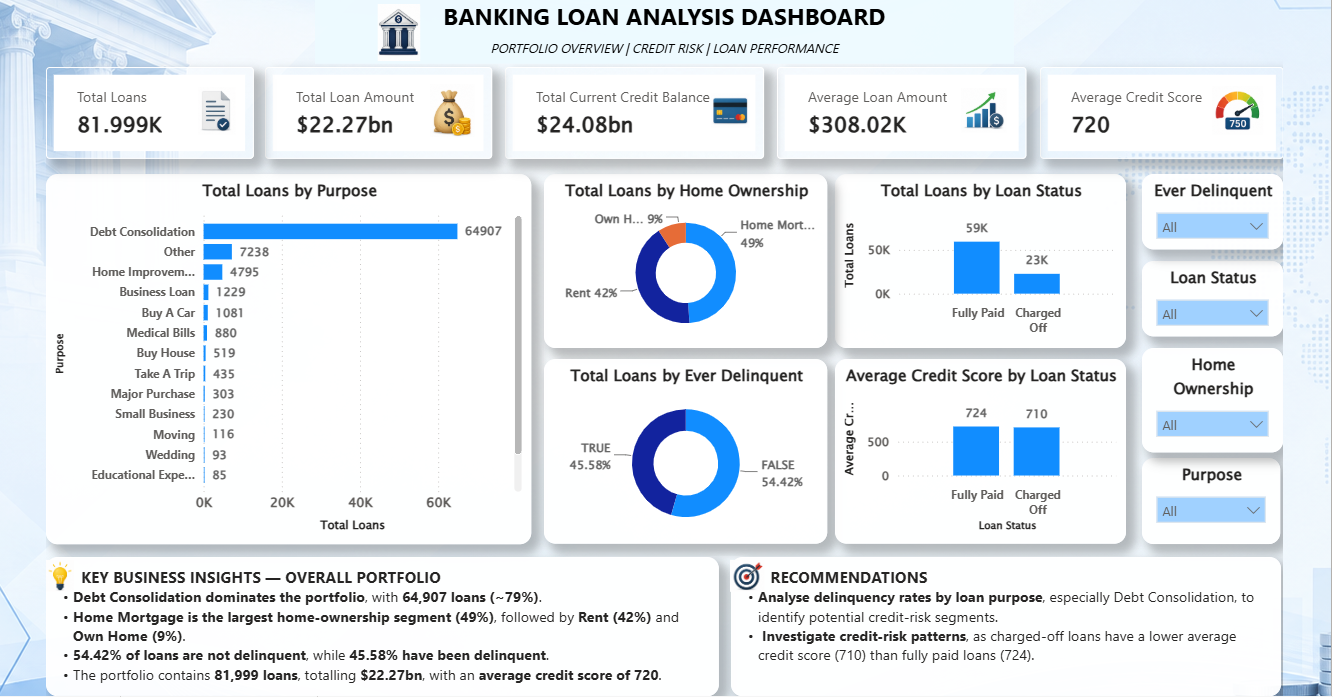

The dashboard page shown, as its layout file describes it:
{"tool":"powerbi","page":{"name":"Executive/Portfolio View","canvas":[1280,720],"ordinal":0},"visuals":[{"type":"clusteredColumnChart","fields":{"Category":["Fact_Loans.Loan Status"],"Y":["Fact_Loans.Total Loans"]},"box":[815.9,179.8,301.2,179.8],"z":0},{"type":"clusteredBarChart","fields":{"Category":["Dim_Purpose.Purpose"],"Y":["Fact_Loans.Total Loans"]},"box":[0,179.8,502.5,382.6],"z":1000},{"type":"donutChart","fields":{"Category":["Dim_Customers.Home Ownership"],"Y":["Fact_Loans.Total Loans"]},"box":[514.8,179.8,293.5,179.8],"z":2000},{"type":"cardVisual","title":"Average Credit Score","fields":{"Data":["Fact_Loans.Average Credit Score"]},"box":[1028,69.1,252,95.3],"z":3000},{"type":"donutChart","fields":{"Category":["Fact_Loans.Ever Delinquent"],"Y":["Fact_Loans.Total Loans"]},"box":[514.8,371.9,293.5,190.5],"z":4000},{"type":"cardVisual","title":"Total Current Credit Balance","fields":{"Data":["Fact_Loans.Total Current Credit Balance"]},"box":[475.2,69.1,267.8,95],"z":5000},{"type":"clusteredColumnChart","fields":{"Category":["Fact_Loans.Loan Status"],"Y":["Fact_Loans.Average Credit Score"]},"box":[815.9,371.9,301.2,190.5],"z":6000},{"type":"cardVisual","title":"Total Loan Amount","fields":{"Data":["Fact_Loans.Total Loan Amount"]},"box":[226.1,69.1,234.7,95],"z":7000},{"type":"cardVisual","title":"Average Loan Amount","fields":{"Data":["Fact_Loans.Average Loan Amount"]},"box":[756,69.1,258.2,95.3],"z":8000},{"type":"slicer","title":"Loan Status","fields":{"Values":["Fact_Loans.Loan Status"]},"box":[1134,270.4,146,78.4],"z":9000},{"type":"slicer","title":"Purpose","fields":{"Values":["Dim_Purpose.Purpose"]},"box":[1134,473.3,142.9,89.1],"z":10000},{"type":"slicer","title":"Home Ownership","fields":{"Values":["Dim_Customers.Home Ownership"]},"box":[1134,359.6,146,107.6],"z":11000},{"type":"slicer","title":"Ever Delinquent","fields":{"Values":["Fact_Loans.Ever Delinquent"]},"box":[1134,179.8,146,78.4],"z":12000},{"type":"textbox","title":"BANKING LOAN ANALYSIS DASHBOARD","box":[277.9,0,722.9,66.2],"z":13000},{"type":"cardVisual","title":"Total Loans","fields":{"Data":["Fact_Loans.Total Loans"]},"box":[0,69.1,214.6,95],"z":14000},{"type":"textbox","box":[0,576,695.5,144],"z":15000},{"type":"textbox","box":[708.5,576,568.8,144],"z":16000},{"type":"image","box":[333.3,4,64,58.7],"z":17000},{"type":"image","box":[157.3,86.7,38.7,54.7],"z":18000},{"type":"image","box":[397.3,86.7,46.7,54.7],"z":19000},{"type":"image","box":[1206.7,86.7,53.3,54.7],"z":20000},{"type":"image","box":[946.7,86.7,46.7,54.7],"z":21000},{"type":"image","box":[688,86.7,40,54.7],"z":22000},{"type":"image","box":[0,576,29.3,38.7],"z":23000},{"type":"image","box":[708,576,36,38.7],"z":24000}]}

Visuals, with their boxes on the page's 1280x720 design canvas (x1, y1, x2, y2). These are canvas units, not pixel positions in the 1333x697 screenshot, which may show the page scaled, cropped or inside an application window:
clusteredColumnChart - Fact_Loans.Loan Status x Fact_Loans.Total Loans: bbox(816, 180, 1117, 360)
clusteredBarChart - Dim_Purpose.Purpose x Fact_Loans.Total Loans: bbox(0, 180, 502, 562)
donutChart - Dim_Customers.Home Ownership x Fact_Loans.Total Loans: bbox(515, 180, 808, 360)
"Average Credit Score" cardVisual: bbox(1028, 69, 1280, 164)
donutChart - Fact_Loans.Ever Delinquent x Fact_Loans.Total Loans: bbox(515, 372, 808, 562)
"Total Current Credit Balance" cardVisual: bbox(475, 69, 743, 164)
clusteredColumnChart - Fact_Loans.Loan Status x Fact_Loans.Average Credit Score: bbox(816, 372, 1117, 562)
"Total Loan Amount" cardVisual: bbox(226, 69, 461, 164)
"Average Loan Amount" cardVisual: bbox(756, 69, 1014, 164)
"Loan Status" slicer: bbox(1134, 270, 1280, 349)
"Purpose" slicer: bbox(1134, 473, 1277, 562)
"Home Ownership" slicer: bbox(1134, 360, 1280, 467)
"Ever Delinquent" slicer: bbox(1134, 180, 1280, 258)
"BANKING LOAN ANALYSIS DASHBOARD" textbox: bbox(278, 0, 1001, 66)
"Total Loans" cardVisual: bbox(0, 69, 215, 164)
textbox: bbox(0, 576, 696, 720)
textbox: bbox(708, 576, 1277, 720)
image: bbox(333, 4, 397, 63)
image: bbox(157, 87, 196, 141)
image: bbox(397, 87, 444, 141)
image: bbox(1207, 87, 1260, 141)
image: bbox(947, 87, 993, 141)
image: bbox(688, 87, 728, 141)
image: bbox(0, 576, 29, 615)
image: bbox(708, 576, 744, 615)
